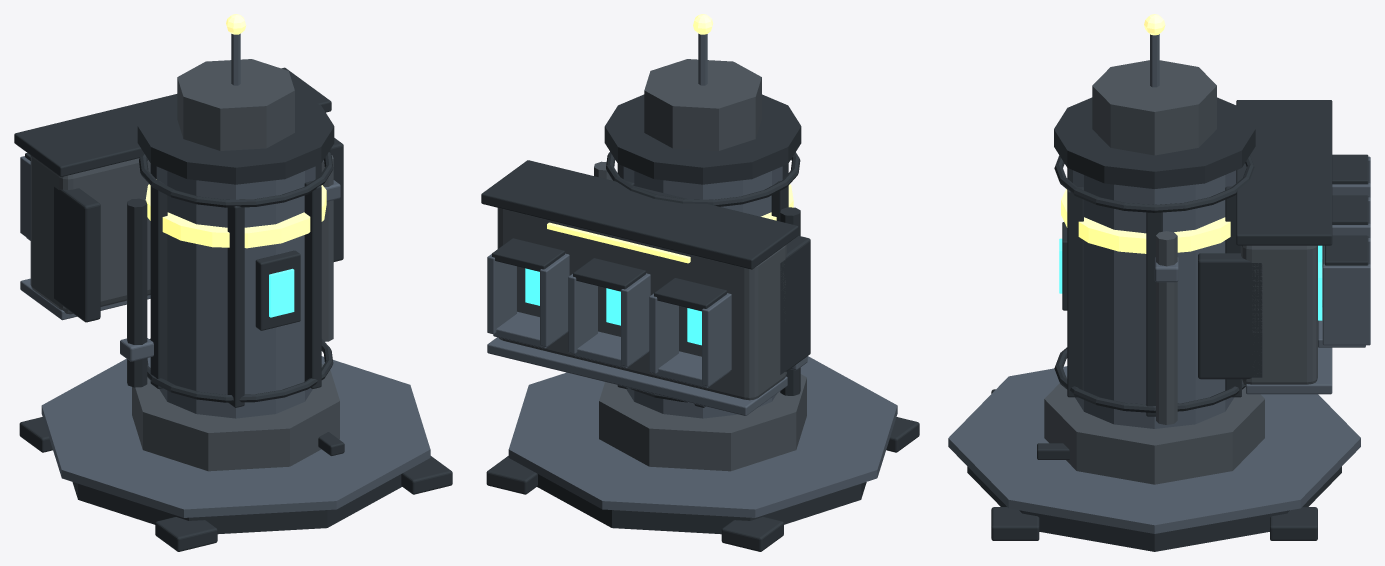
File: prop_reactor.glb
The picture shows the model from 3 angles, left to right: view 1: azimuth 30°, elevation 25°; view 2: azimuth 150°, elevation 25°; view 3: azimuth 270°, elevation 25°; orthographic projection. The views are drawn at different scales.
Visible parts, largest first — view 1: reactor_body, reactor_bay, reactor_band, reactor_slot_0; view 2: reactor_body, reactor_bay, reactor_slot_0, reactor_slot_1, reactor_slot_2; view 3: reactor_body, reactor_bay, reactor_slot_2, reactor_band, reactor_slot_1, reactor_slot_0.
Part boxes in pixels (x1,y1,x2,y2): reactor_body: [19, 14, 452, 551]; reactor_bay: [14, 67, 343, 322]; reactor_band: [145, 179, 326, 248]; reactor_slot_0: [20, 153, 30, 240]; reactor_body: [486, 14, 919, 551]; reactor_bay: [481, 160, 810, 415]; reactor_slot_0: [649, 278, 731, 388]; reactor_slot_1: [568, 258, 650, 368]; reactor_slot_2: [487, 238, 569, 348]; reactor_body: [948, 14, 1360, 551]; reactor_bay: [1198, 100, 1332, 394]; reactor_slot_2: [1318, 235, 1370, 347]; reactor_band: [1061, 189, 1230, 253]; reactor_slot_1: [1318, 195, 1370, 306]; reactor_slot_0: [1322, 154, 1370, 266].
Bounding box in the file's own units: 1.72 × 2.11 × 1.76.
